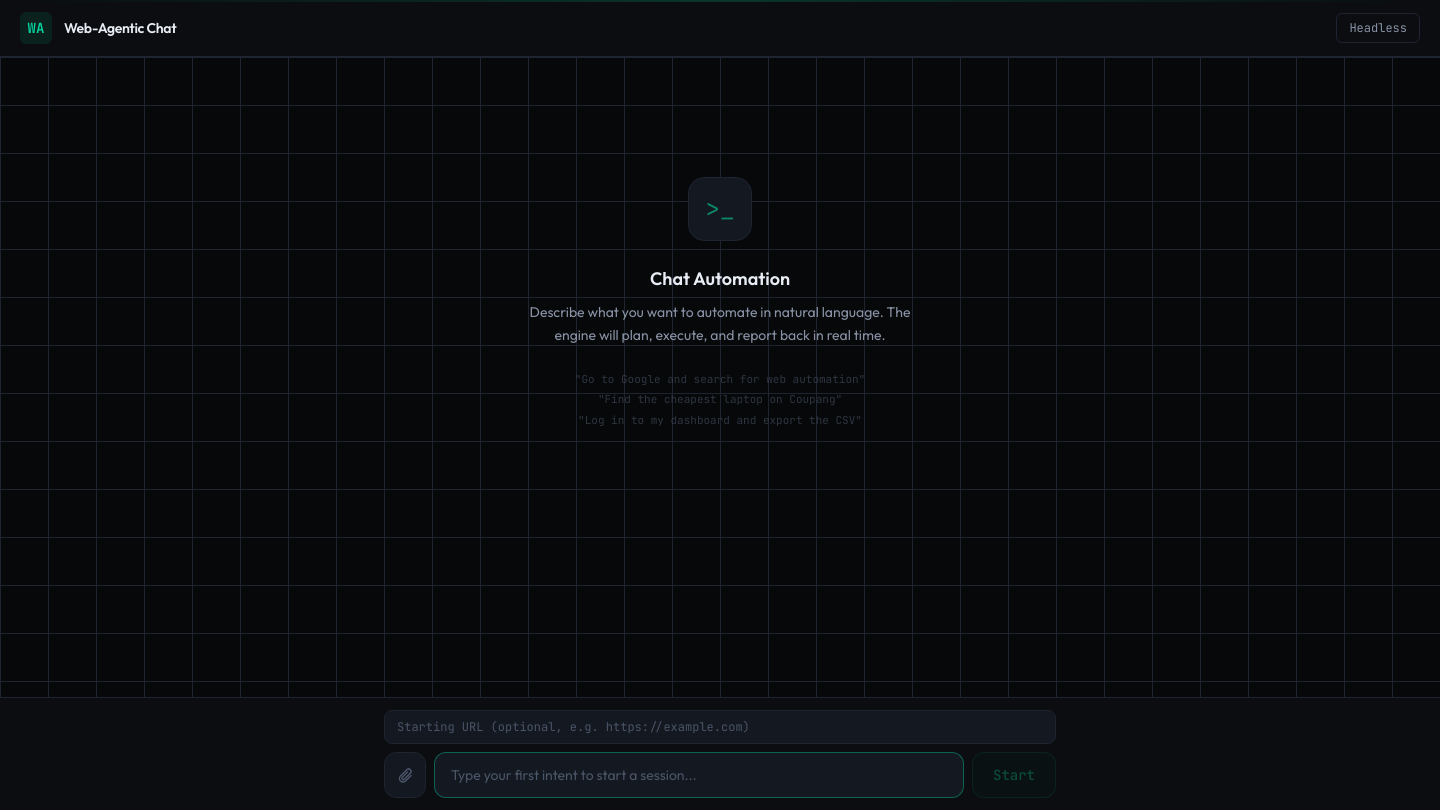
Test: SSE events › ignores events from other sessions
The width and height of the screenshot is (1440, 810).
Type "init" into the field with placeholder "Type your first intent to start a session...". click: [699, 775]
box: [434, 752, 964, 798]
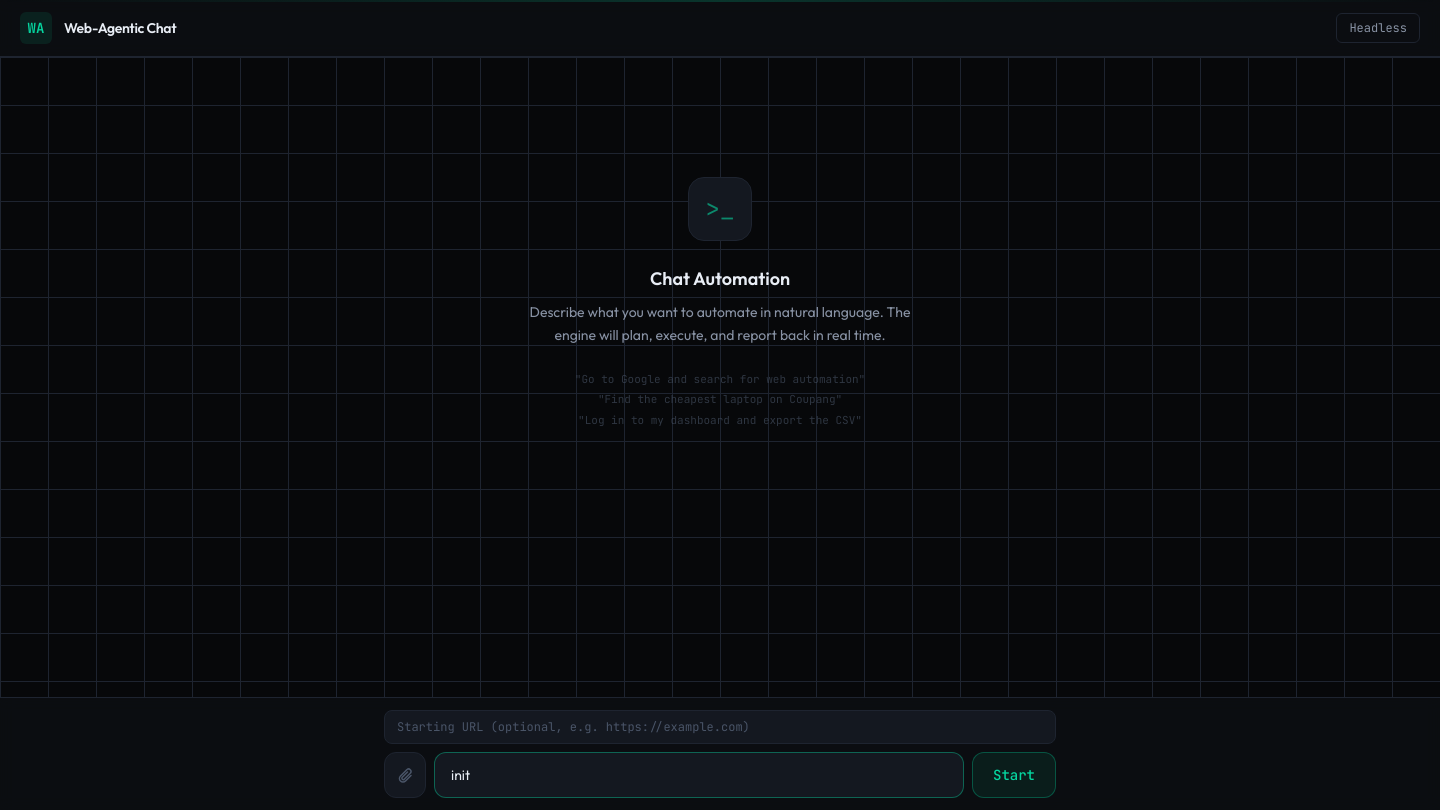
Click the button "Start". click: [1014, 775]
box: [972, 752, 1056, 798]
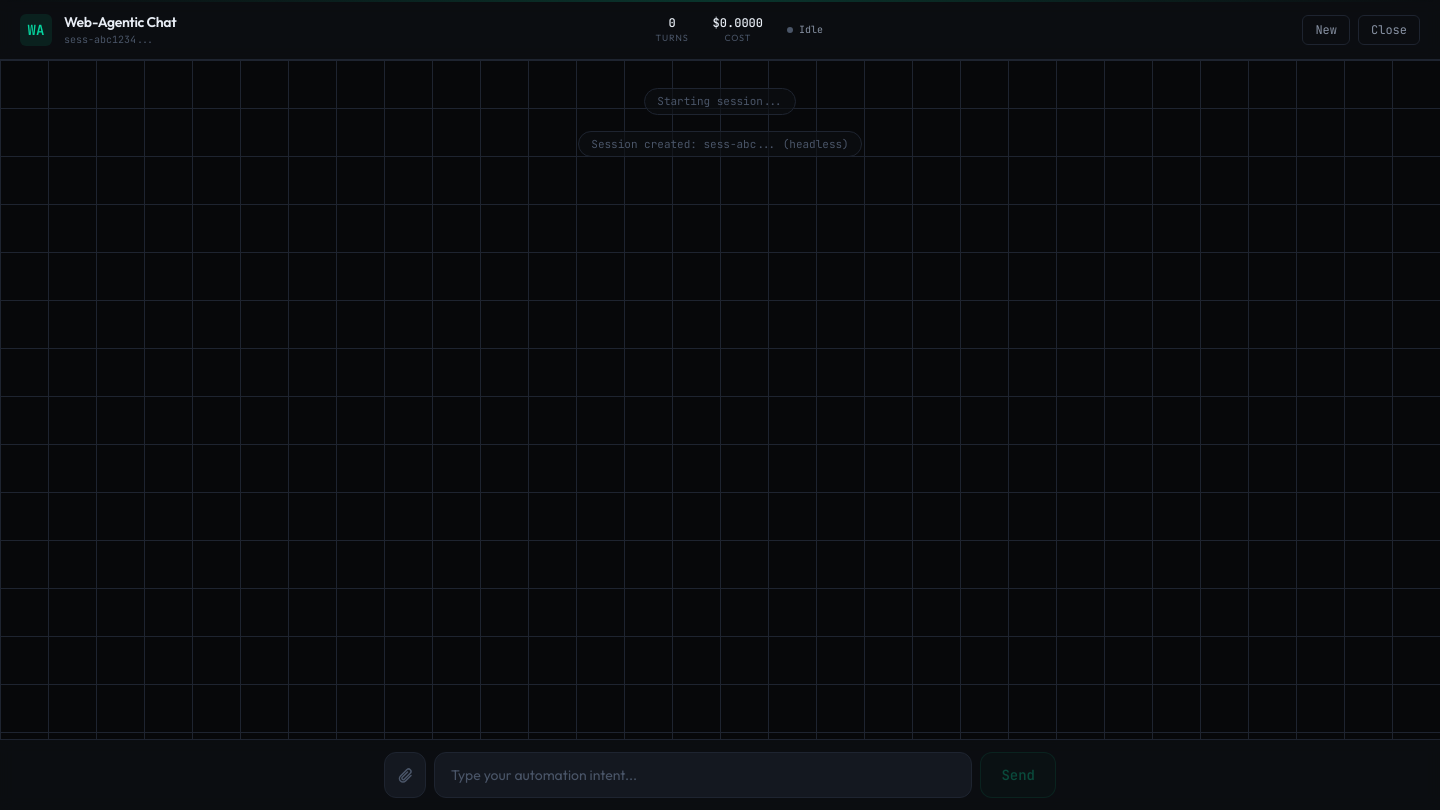
Expected: the text "Session created: sess-abc... (headless)" is shown, [578, 130, 862, 157]
